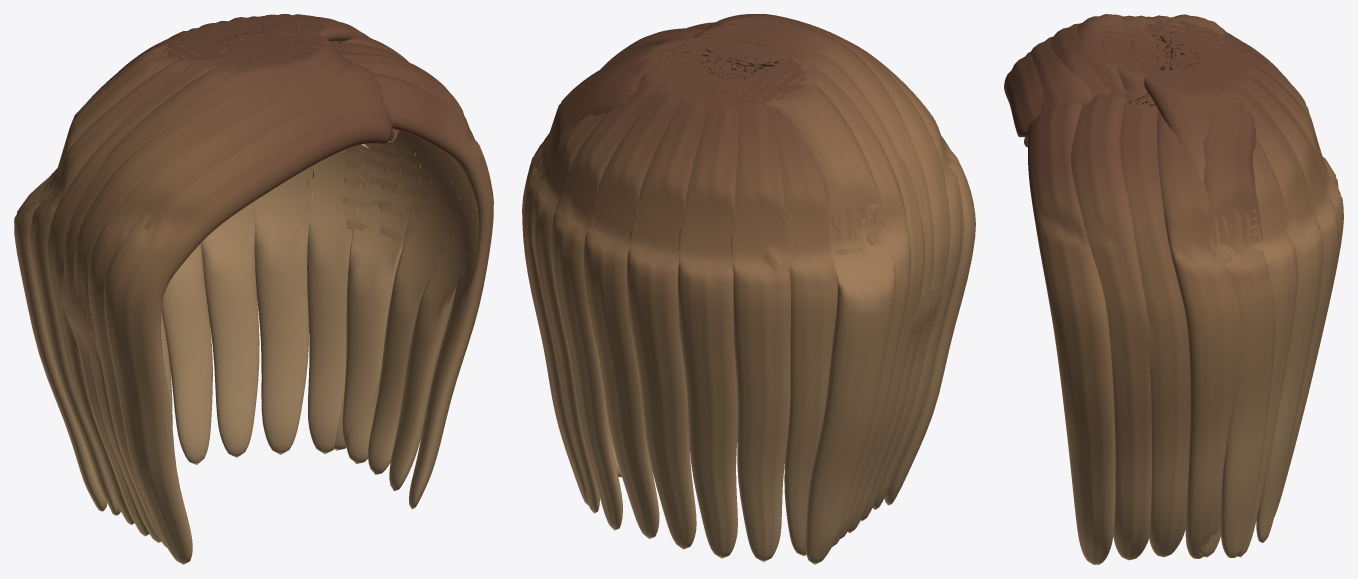
The model's file is Ombre-34017b98a9bc253-hair.glb.
3 views of the same model, side by side, from view 1: azimuth 30°, elevation 25°; view 2: azimuth 150°, elevation 25°; view 3: azimuth 270°, elevation 25° (orthographic). The views are drawn at different scales.
Parts seen in each view (by area): view 1: 226 hair / Hair / sculpted 0.001, 226 hair / Hair / sculpted 1.002, 226 hair / Hair / sculpted 2.001; view 2: 226 hair / Hair / sculpted 0.001, 226 hair / Hair / sculpted 2.001, 226 hair / Hair / sculpted 1.002; view 3: 226 hair / Hair / sculpted 1.002, 226 hair / Hair / sculpted 2.001, 226 hair / Hair / sculpted 0.001.
Part boxes in pixels (left/top/right/bottom): 226 hair / Hair / sculpted 0.001: left=14, top=14, right=460, bottom=564; 226 hair / Hair / sculpted 1.002: left=47, top=16, right=493, bottom=547; 226 hair / Hair / sculpted 2.001: left=30, top=14, right=476, bottom=542; 226 hair / Hair / sculpted 0.001: left=550, top=15, right=975, bottom=564; 226 hair / Hair / sculpted 2.001: left=522, top=14, right=950, bottom=556; 226 hair / Hair / sculpted 1.002: left=522, top=14, right=963, bottom=561; 226 hair / Hair / sculpted 1.002: left=1028, top=15, right=1338, bottom=564; 226 hair / Hair / sculpted 2.001: left=1049, top=15, right=1343, bottom=560; 226 hair / Hair / sculpted 0.001: left=1004, top=14, right=1338, bottom=557.
Bounding box in the file's own units: 1.02 × 1.18 × 0.7803.
4 materials, 4 textured.
